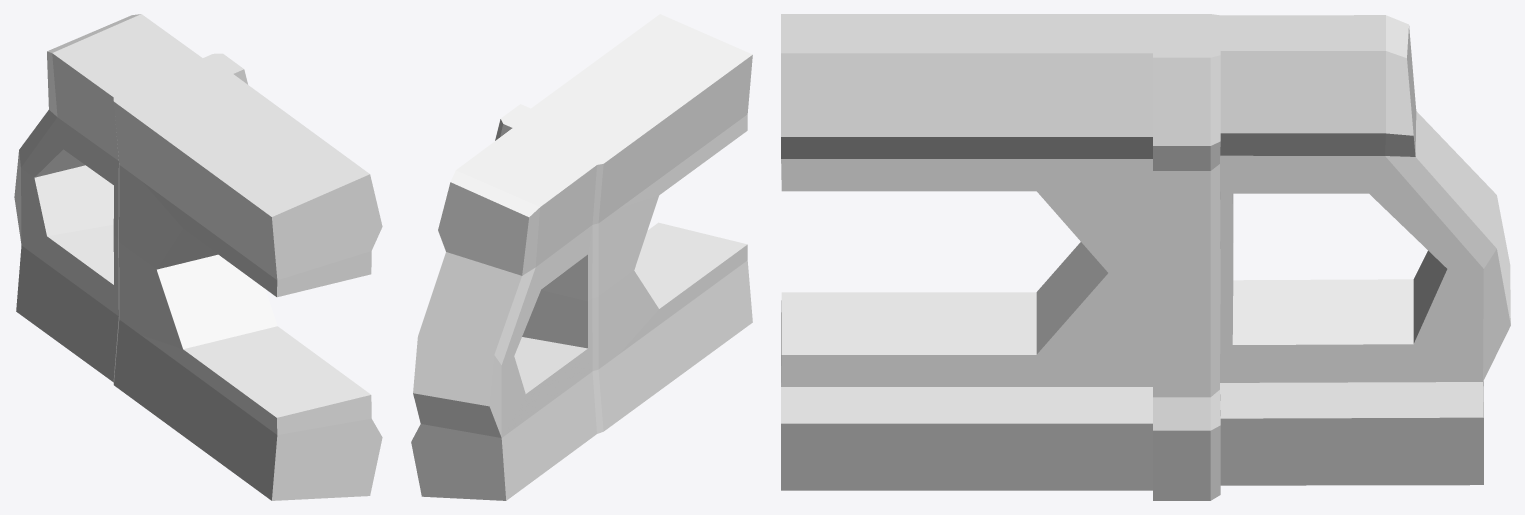
File: venice_col_3.fbx
The picture shows the model from 3 angles, left to right: view 1: azimuth 30°, elevation 25°; view 2: azimuth 150°, elevation 25°; view 3: azimuth 270°, elevation 25°; orthographic projection. The views are drawn at different scales.
Visible parts, largest first — view 1: Cube.370; view 2: Cube.370; view 3: Cube.370.
Part boxes in pixels (bbox=[...]): Cube.370: bbox=[14, 14, 382, 500]; Cube.370: bbox=[411, 14, 752, 500]; Cube.370: bbox=[781, 14, 1510, 500].
Size of the model in its own units: 536 by 1359 by 2028.
